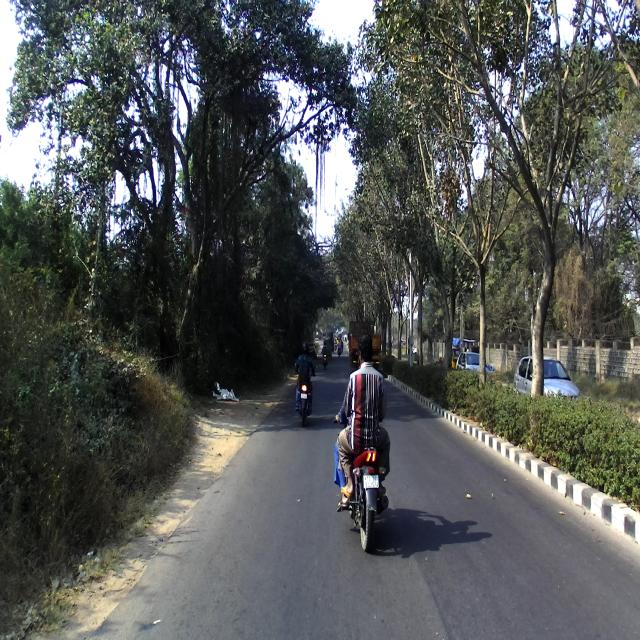motorcycle ahead at: (338, 443, 394, 549)
